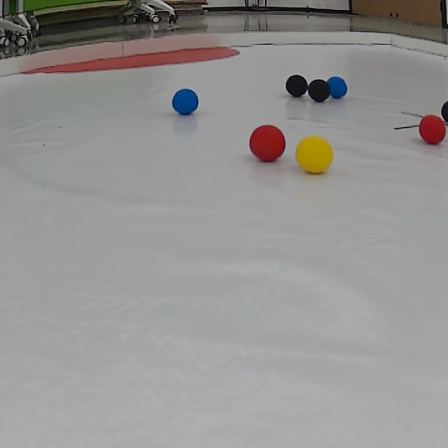black: (283, 68, 311, 99), (307, 79, 329, 105)
blue: (164, 88, 202, 115), (323, 75, 353, 98)
red: (249, 125, 285, 161), (418, 114, 445, 144)
red_base: (22, 43, 247, 75)
yellow: (296, 134, 335, 175)
